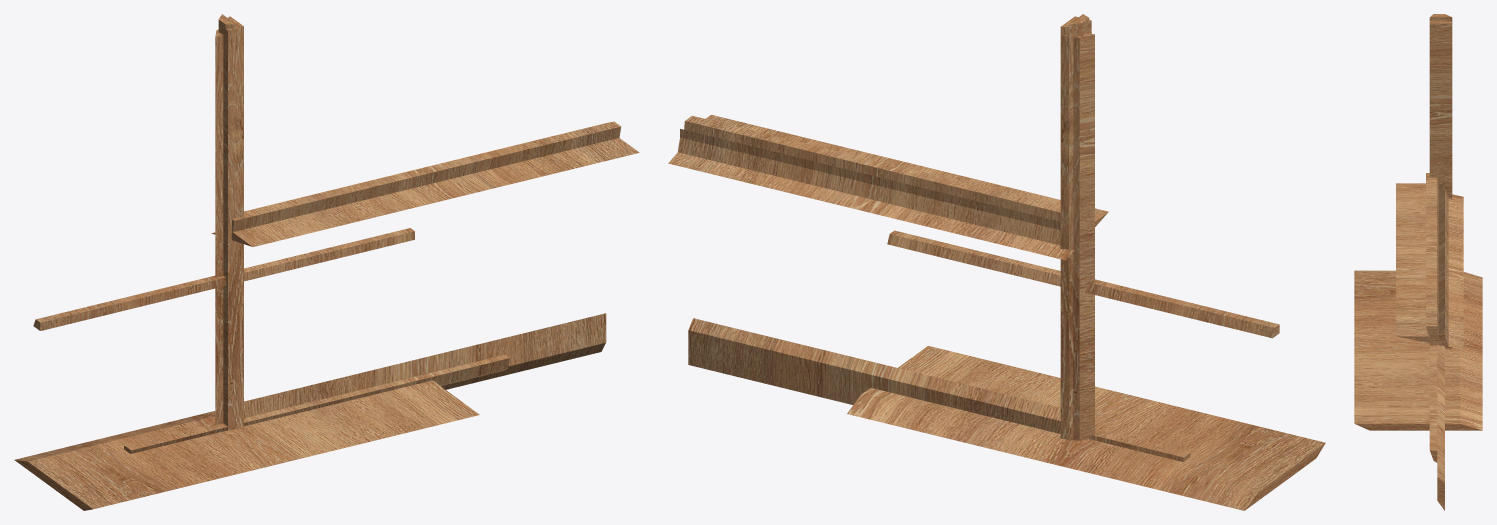
The model's file is 46553_deepcad.glb.
The picture shows the model from 3 angles, left to right: view 1: azimuth 30°, elevation 25°; view 2: azimuth 150°, elevation 25°; view 3: azimuth 270°, elevation 25°; orthographic projection. The views are drawn at different scales.
Parts seen in each view (by area): view 1: test_cmd_46553_pred; view 2: test_cmd_46553_pred; view 3: test_cmd_46553_pred.
Part boxes in pixels (x1,y1,x2,y2): test_cmd_46553_pred: (14, 14, 639, 510); test_cmd_46553_pred: (668, 14, 1325, 510); test_cmd_46553_pred: (1354, 14, 1482, 510).
Bounding box in the file's own units: 1 × 0.7063 × 0.2378.
Materials: 1 (1 with a texture image).
